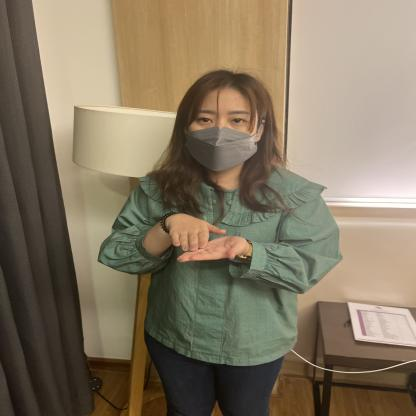Love: (132, 194, 278, 285)
